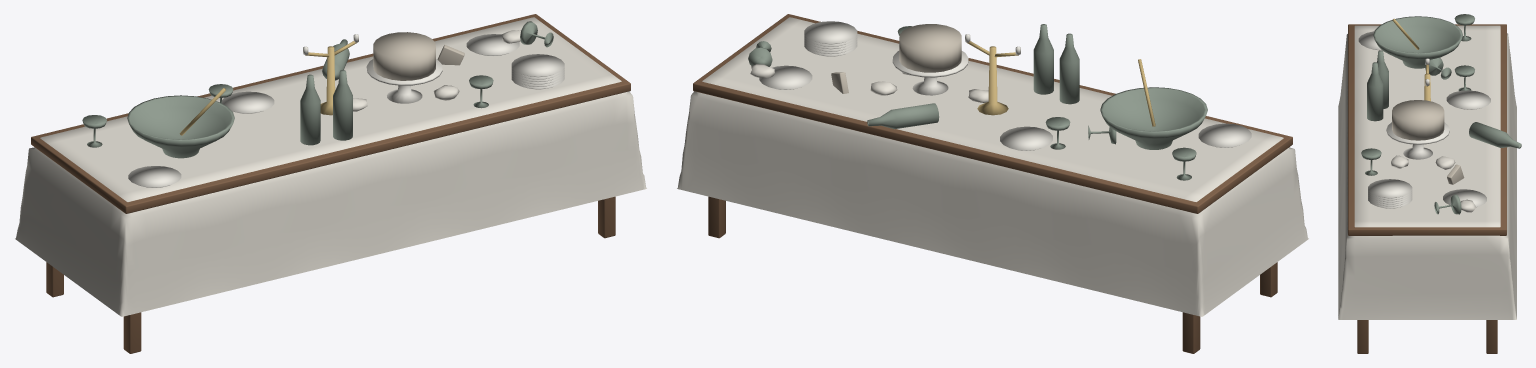
The model's file is party_table.glb.
3 views of the same model, side by side, from view 1: azimuth 30°, elevation 25°; view 2: azimuth 150°, elevation 25°; view 3: azimuth 270°, elevation 25° (orthographic). The views are drawn at different scales.
Parts seen in each view (by area): view 1: party_table; view 2: party_table; view 3: party_table.
Boxes of the visible parts, box(x1,y1,x2,y2) form: party_table: box(15, 14, 646, 353); party_table: box(677, 14, 1308, 353); party_table: box(1338, 14, 1521, 353).
Bounding box in the file's own units: 2.7 × 1.1 × 0.9813.
